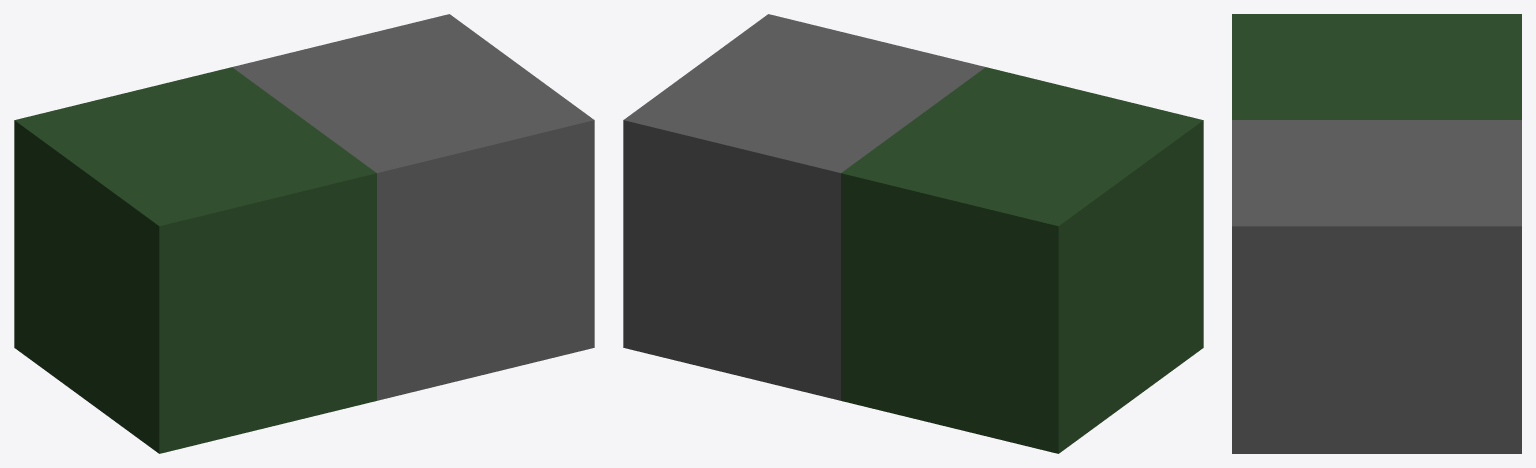
The model's file is edge_grass_forest-cliff_forest_cliff-forest.glb.
The picture shows the model from 3 angles, left to right: view 1: azimuth 30°, elevation 25°; view 2: azimuth 150°, elevation 25°; view 3: azimuth 270°, elevation 25°; orthographic projection.
Parts seen in each view (by area): view 1: edge_grass_forest-cliff_forest_cliff-forest; view 2: edge_grass_forest-cliff_forest_cliff-forest; view 3: edge_grass_forest-cliff_forest_cliff-forest.
Boxes of the visible parts, box(x1,y1,x2,y2) form: edge_grass_forest-cliff_forest_cliff-forest: box(14, 14, 594, 453); edge_grass_forest-cliff_forest_cliff-forest: box(623, 14, 1203, 453); edge_grass_forest-cliff_forest_cliff-forest: box(1232, 14, 1521, 453).
Bounding box in the file's own units: 1 × 0.5 × 0.577.
